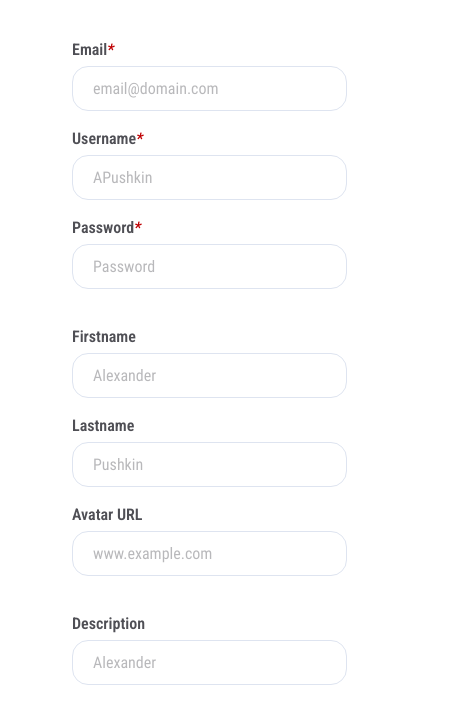
Scenario: UserForm › shows loading state during submit (spinner + disabled)
In the field labelled "Email*": point(210, 88) [72, 66, 347, 111], type "a@b.com"
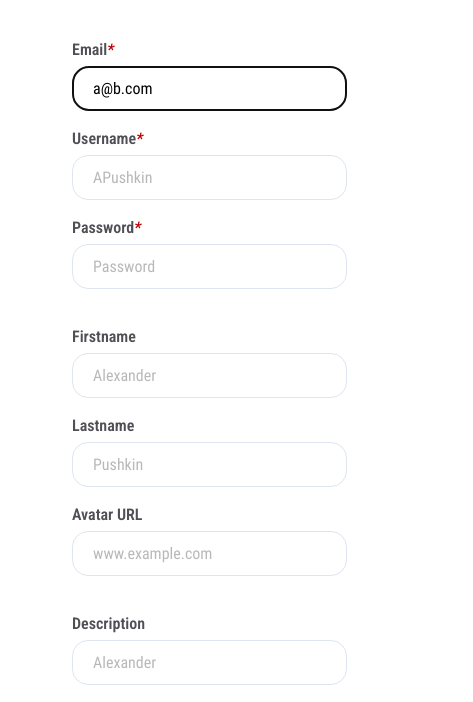
In the field labelled "Username*": point(210, 178) [72, 155, 347, 200], type "abc"
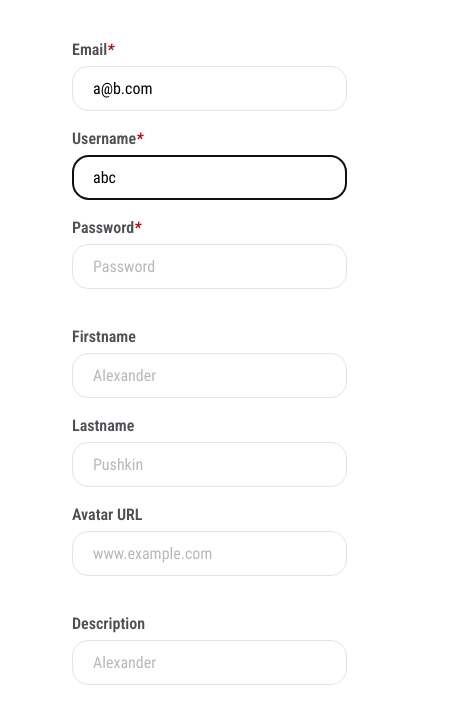
In the password field labelled "Password*": point(210, 266) [72, 244, 347, 289], type "password1"
(page scrolled)
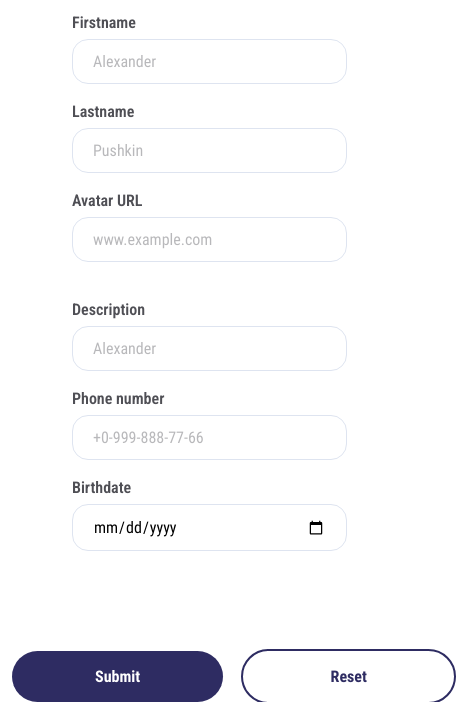
Click the button "Submit": point(118, 676) [12, 651, 223, 701]
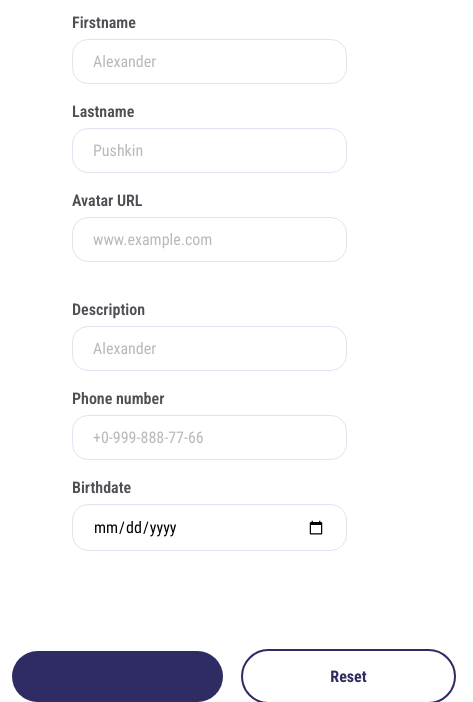
Expected: the button named "Submit" is disabled, [12, 651, 223, 701]
